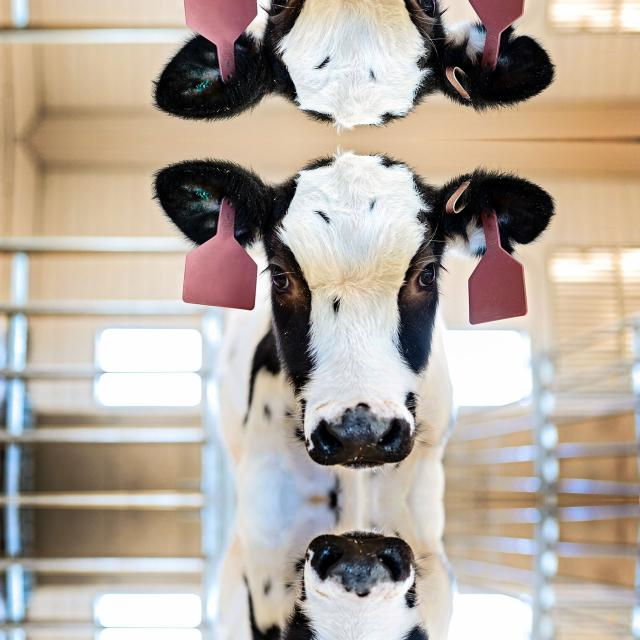obstacle: (144, 142, 582, 500), (144, 500, 581, 640), (144, 0, 581, 138)
